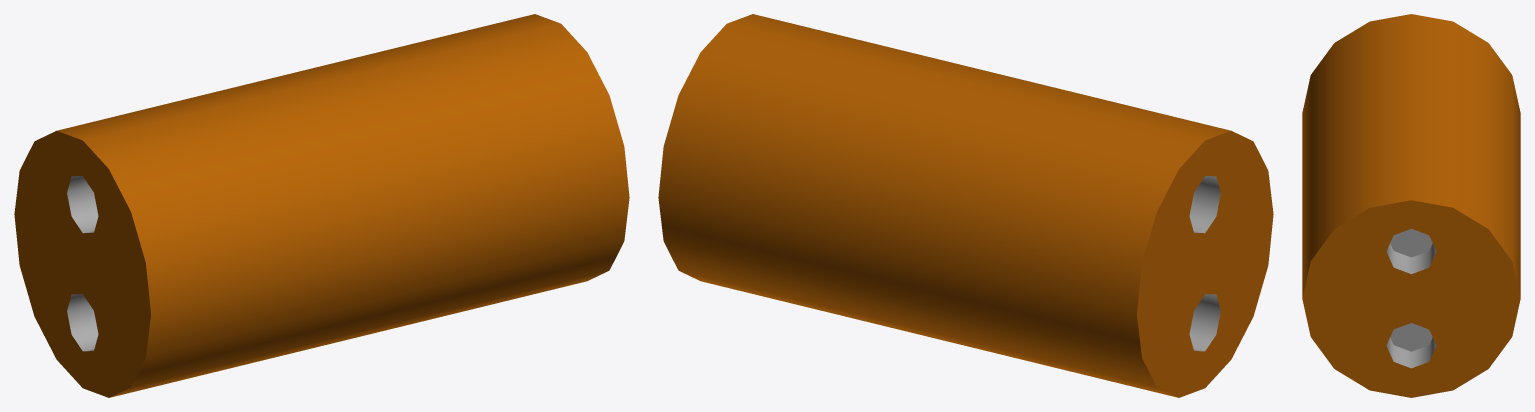
File: Shield_Ball.fbx
The picture shows the model from 3 angles, left to right: view 1: azimuth 30°, elevation 25°; view 2: azimuth 150°, elevation 25°; view 3: azimuth 270°, elevation 25°; orthographic projection. The views are drawn at different scales.
Parts seen in each view (by area): view 1: Shield_Ball; view 2: Shield_Ball; view 3: Shield_Ball.
Boxes of the visible parts, bbox=[...] form: Shield_Ball: bbox=[14, 14, 629, 397]; Shield_Ball: bbox=[658, 14, 1273, 397]; Shield_Ball: bbox=[1302, 14, 1520, 397].
Size of the model in its own units: 63.07 by 31.22 by 31.22.
